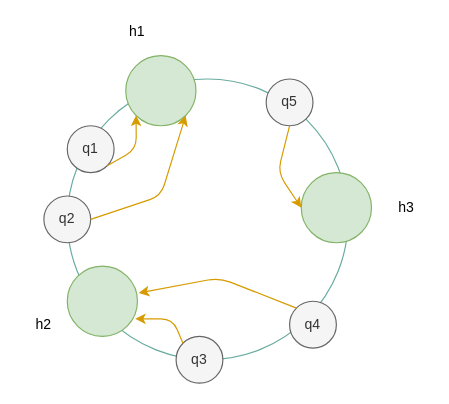
Image size: 449x404. Some labels were removed from this diagram. Here are the shapes that lost their labels. From the top down, the centre of each, then its label:
the point at 160,90: s1
the point at 335,207: s3
the point at 101,300: s2
